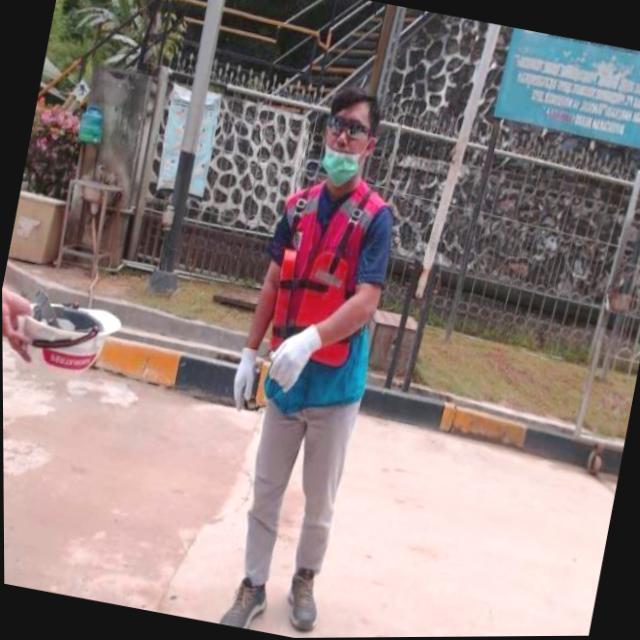goggles_on: (324, 113, 378, 143)
